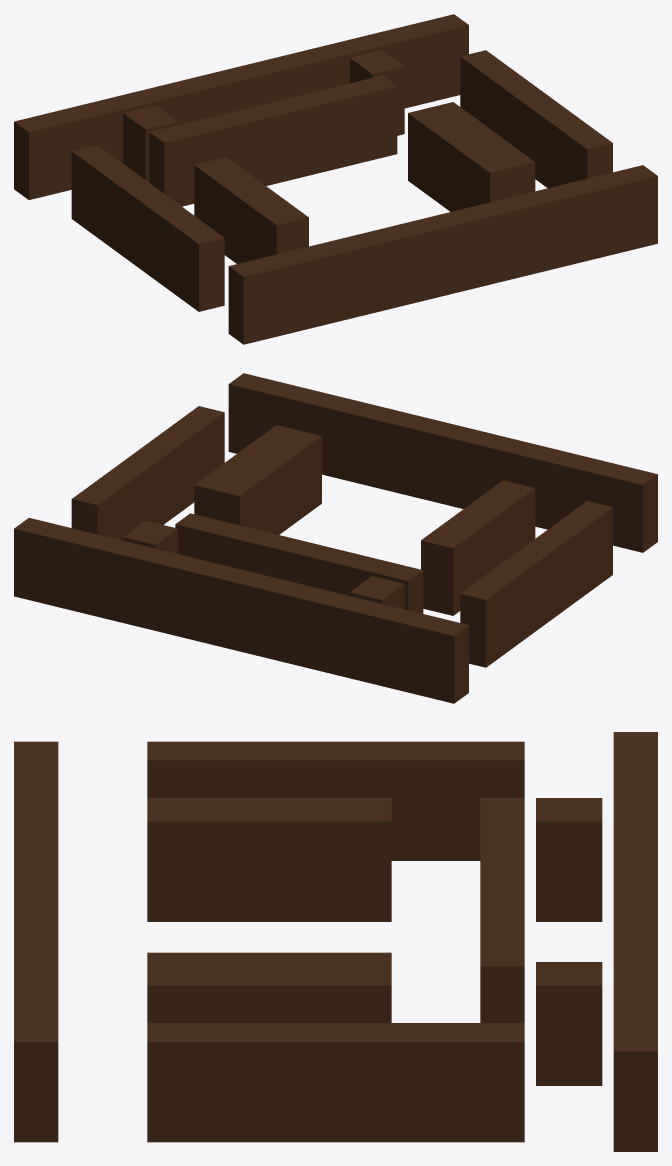
Rendered from Buildings.fbx.
The picture shows the model from 3 angles, top to bottom: view 1: azimuth 30°, elevation 25°; view 2: azimuth 150°, elevation 25°; view 3: azimuth 270°, elevation 25°; orthographic projection. The views are drawn at different scales.
Visible parts, largest first — view 1: Building; view 2: Building; view 3: Building.
Boxes of the visible parts, x1=… form: Building: x1=14, y1=14, x2=657, y2=344; Building: x1=14, y1=373, x2=657, y2=703; Building: x1=14, y1=732, x2=657, y2=1151.
Bounding box in the file's own units: 136 × 20 × 116.
